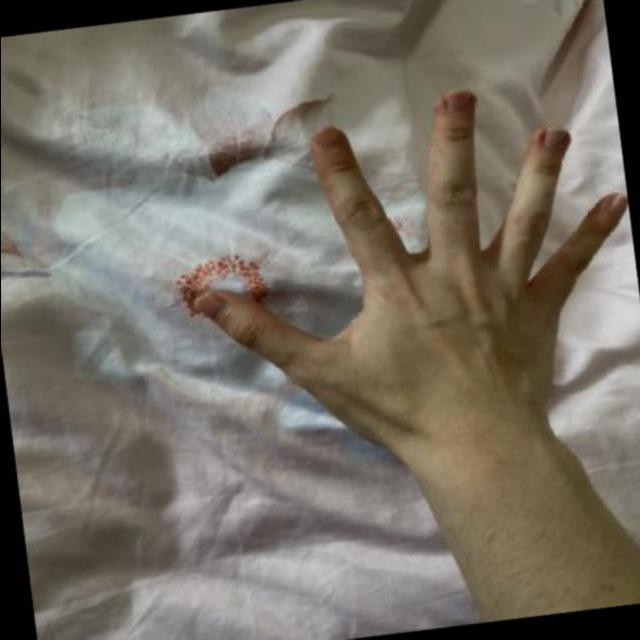hand: (133, 58, 640, 512)
